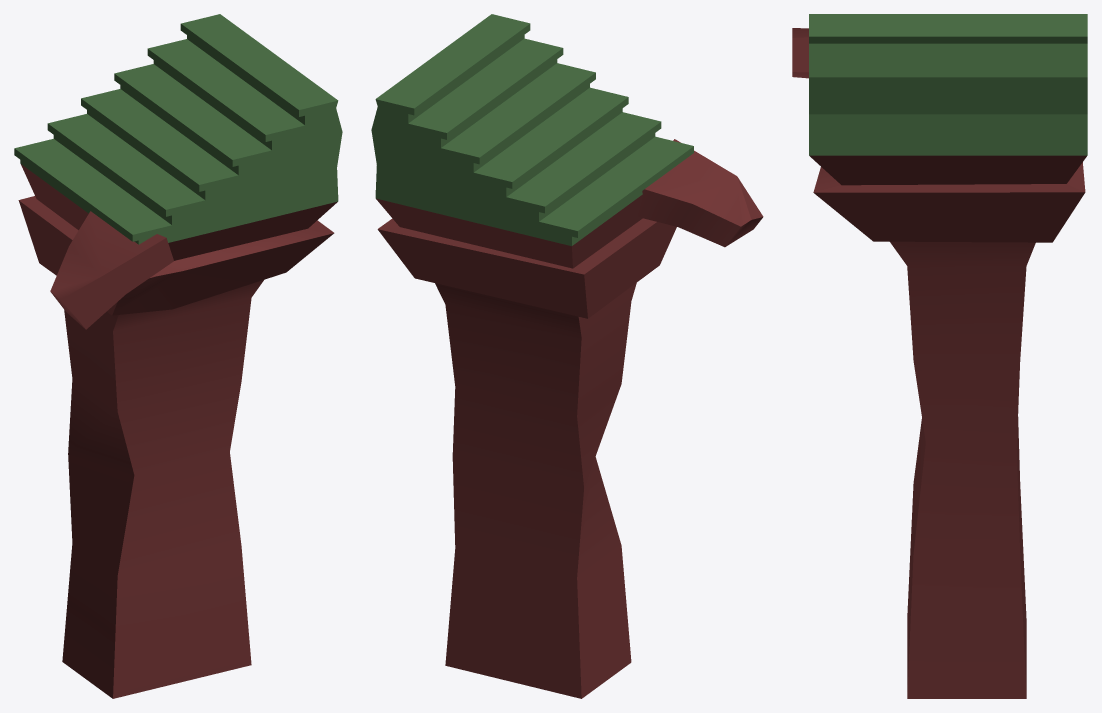
File: mesh_muroescalera3.fbx
The picture shows the model from 3 angles, left to right: view 1: azimuth 30°, elevation 25°; view 2: azimuth 150°, elevation 25°; view 3: azimuth 270°, elevation 25°; orthographic projection. The views are drawn at different scales.
Visible parts, largest first — view 1: mesh_muroescalera3; view 2: mesh_muroescalera3; view 3: mesh_muroescalera3.
Part boxes in pixels (x1=…): mesh_muroescalera3: x1=14, y1=14, x2=342, y2=698; mesh_muroescalera3: x1=371, y1=14, x2=763, y2=698; mesh_muroescalera3: x1=792, y1=14, x2=1087, y2=698.
Bounding box in the file's own units: 2327 × 4719 × 1834.
